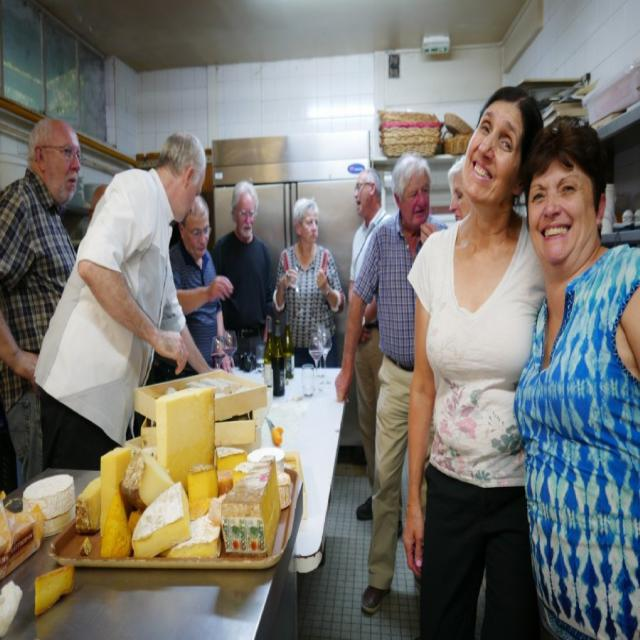body: (398, 79, 554, 640), (510, 108, 639, 639), (32, 128, 219, 474), (333, 148, 449, 618), (0, 115, 84, 491), (346, 165, 403, 538), (160, 193, 237, 384), (270, 195, 346, 370), (211, 179, 276, 370), (446, 153, 473, 222), (80, 178, 113, 230)
